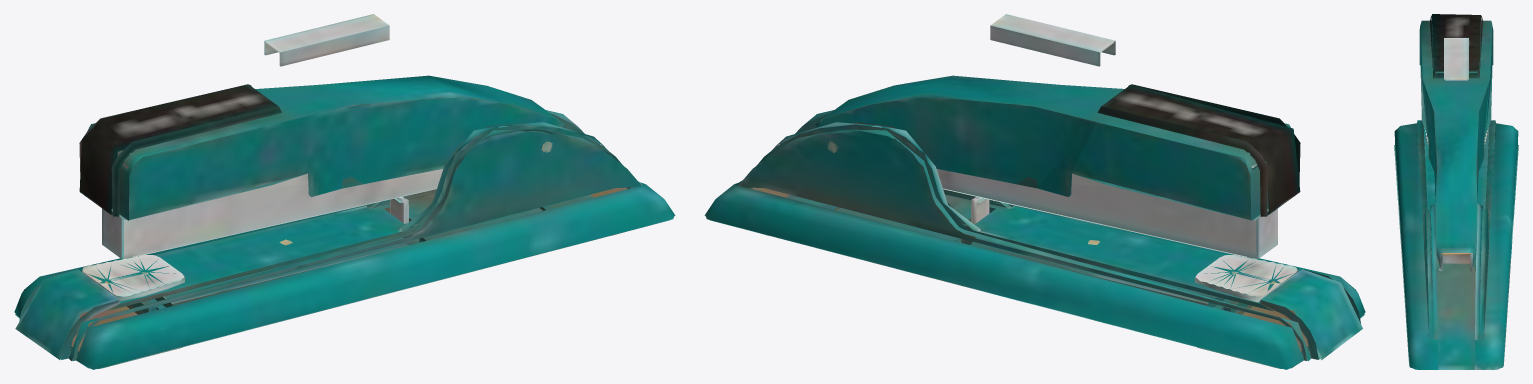
File: stapler.glb
The picture shows the model from 3 angles, left to right: view 1: azimuth 30°, elevation 25°; view 2: azimuth 150°, elevation 25°; view 3: azimuth 270°, elevation 25°; orthographic projection. The views are drawn at different scales.
Visible parts, largest first — view 1: vintage_stapler_top; view 2: vintage_stapler_top; view 3: vintage_stapler_top.
Part boxes in pixels (left/top/right/bottom): vintage_stapler_top: left=14, top=14, right=675, bottom=369; vintage_stapler_top: left=704, top=14, right=1365, bottom=369; vintage_stapler_top: left=1394, top=14, right=1518, bottom=369.
Size of the model in its own units: 0.2097 by 0.0795 by 0.0473.
1 material, 1 textured.
